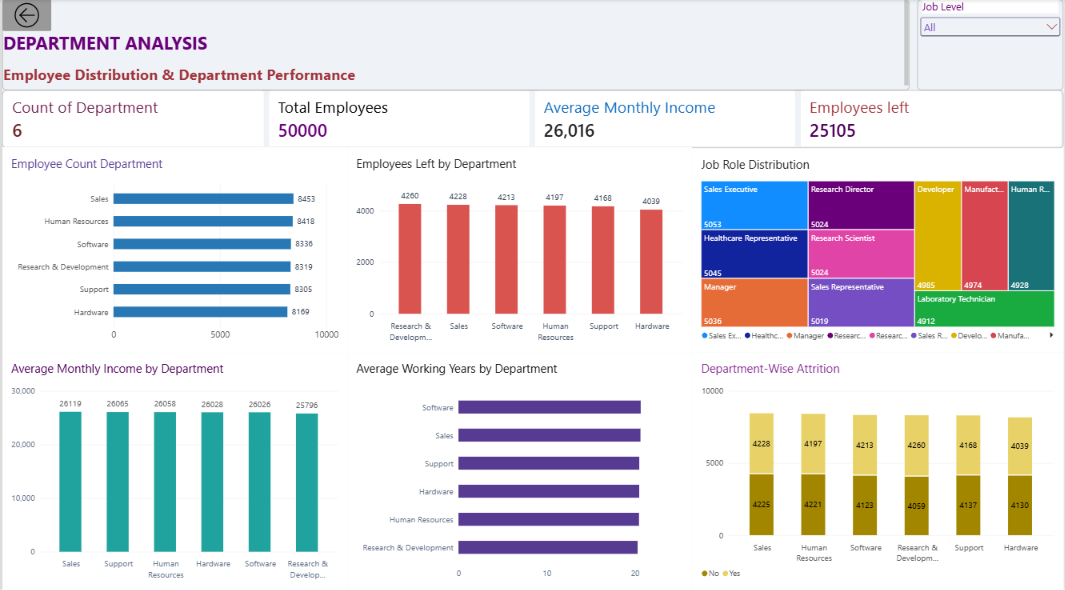

The dashboard page shown, as its layout file describes it:
{"tool":"powerbi","page":{"name":"Department","canvas":[1920,1080],"ordinal":2},"visuals":[{"type":"textbox","box":[0,0,1641.4,164.7],"z":0,"group":"g1"},{"type":"cardVisual","fields":{"Data":["Count(HR_Analytics.Department)","HR_Analytics.Total Employees","HR_Analytics.Average Monthly Income","HR_Analytics.Employees left"]},"box":[0,164.7,1920.1,105],"z":1000},{"type":"clusteredBarChart","title":"Employee Count Department","fields":{"Category":["HR_Analytics.Department"],"Y":["HR_Analytics.Total Employees"]},"box":[0,267.8,624.3,371],"z":2000},{"type":"clusteredColumnChart","title":"Employees Left by Department","fields":{"Category":["HR_Analytics.Department"],"Y":["HR_Analytics.Employees left"]},"box":[624.3,267.8,624.3,371],"z":3000},{"type":"columnChart","title":"Average Monthly Income by Department","fields":{"Category":["HR_Analytics.Department"],"Y":["HR_Analytics.Average Monthly Income"]},"box":[0,638.8,624.3,430.7],"z":4000},{"type":"barChart","title":"Average Working Years by Department","fields":{"Category":["HR_Analytics.Department"],"Y":["HR_Analytics.Average working years"]},"box":[624.3,638.8,624.3,430.7],"z":5000},{"type":"treemap","title":"Job Role Distribution","fields":{"Group":["HR_Analytics.JobRole"],"Values":["Sum(HR_Analytics.EmployeeCount)"]},"box":[1248.7,269.6,671.4,369.2],"z":6000},{"type":"columnChart","title":"Department-Wise Attrition","fields":{"Category":["HR_Analytics.Department"],"Series":["HR_Analytics.Attrition"],"Y":["Sum(HR_Analytics.EmployeeCount)"]},"box":[1248.7,638.8,671.4,430.7],"z":7000},{"type":"slicer","fields":{"Values":["HR_Analytics.JobLevel"]},"box":[1655.8,0,264.2,164.7],"z":8000},{"type":"actionButton","box":[0,0,88.7,57.9],"z":9000,"group":"g1"},{"type":"group","id":"g1","title":"Group 1","box":[0,0,1641.4,164.7],"z":9001}]}

Visuals, with their boxes in screenshot pixels (x1, y1, x2, y2), scaled from the page's 1920x1080 canvas onto the 1065x590 screenshot:
textbox: [0,0,910,90]
cardVisual - Count(HR_Analytics.Department) x HR_Analytics.Total Employees: [0,90,1064,147]
"Employee Count Department" clusteredBarChart: [0,146,346,349]
"Employees Left by Department" clusteredColumnChart: [346,146,693,349]
"Average Monthly Income by Department" columnChart: [0,349,346,584]
"Average Working Years by Department" barChart: [346,349,693,584]
"Job Role Distribution" treemap: [693,147,1064,349]
"Department-Wise Attrition" columnChart: [693,349,1064,584]
slicer - HR_Analytics.JobLevel: [918,0,1064,90]
actionButton: [0,0,49,32]
"Group 1" group: [0,0,910,90]
